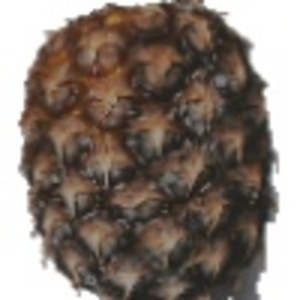abacaxi: (19, 2, 282, 298)
